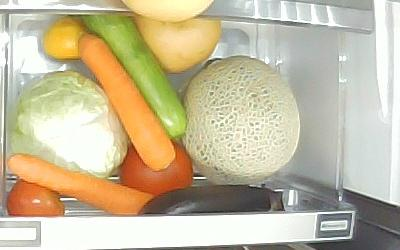cabbage: (10, 69, 130, 180)
carrot: (76, 32, 177, 171), (76, 32, 177, 169), (6, 154, 156, 216)
eggplant: (136, 184, 284, 215)
melon: (180, 55, 300, 183)
pear: (136, 16, 222, 74)
prune: (6, 180, 65, 216)
tangerine: (44, 17, 87, 60)
tomato: (120, 141, 193, 194)
zucchini: (82, 15, 189, 138)
